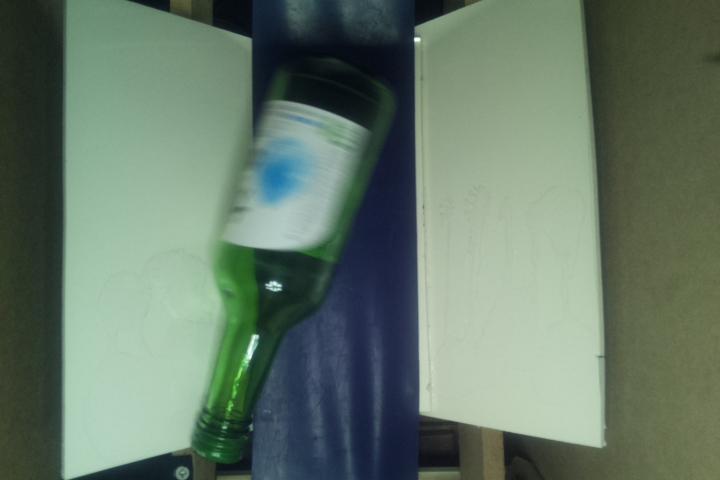soju: (183, 49, 398, 465)
